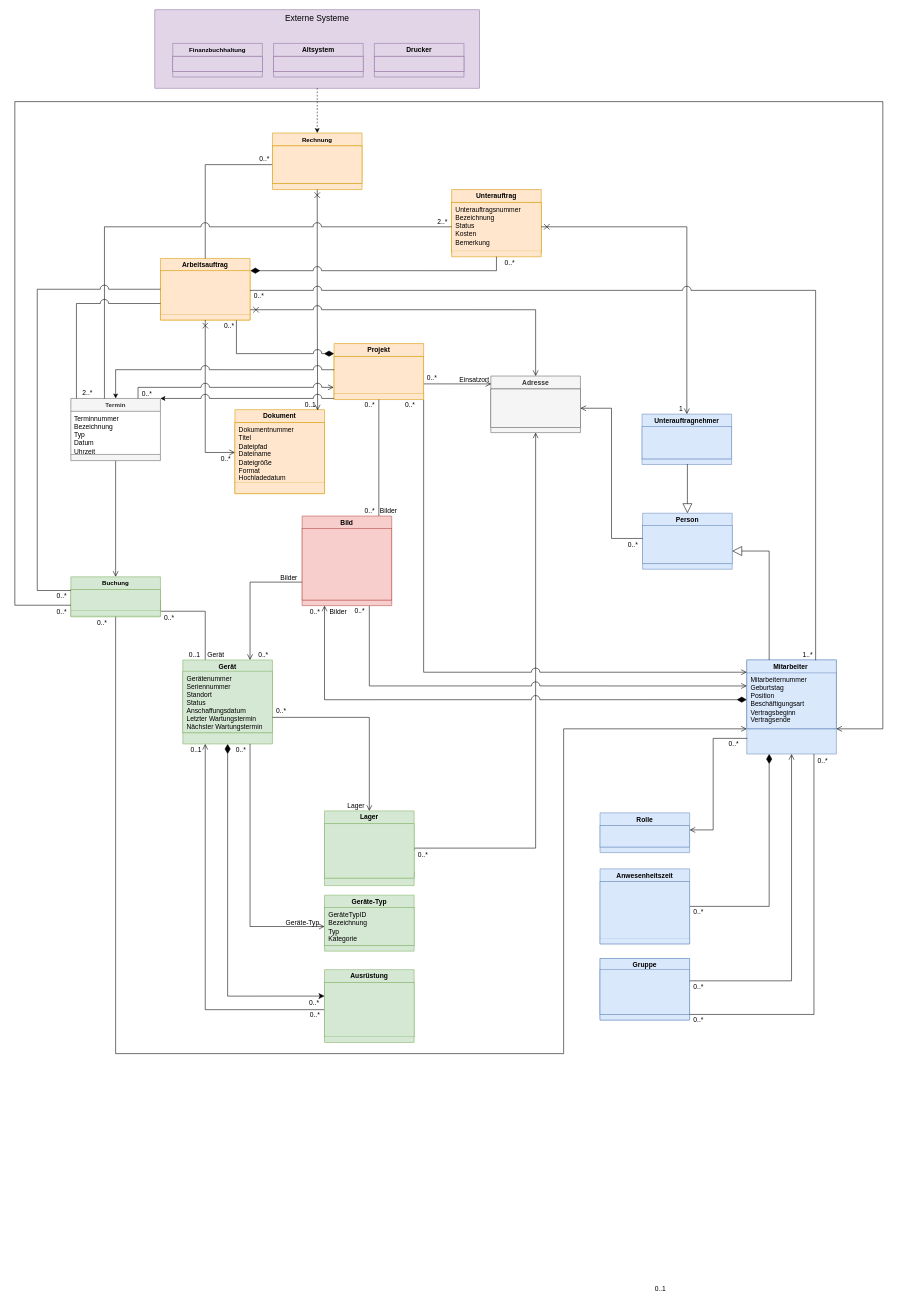
This 898x1304 diagram has some shape labels left out. Each missing label, with the centre of its shape:
Anwesenheits-ID Datum Startzeit Zeit-Endzeit Zeit-Typ Text-Bemerkung: (644,909)
Auftragsnummer Auftragsbezeichnung Status Bemerkung: (205,292)
Ausrüstungsnummer Bezeichnung Typ Kompatibel mit Gewicht Status: (369,1009)
Bild-ID Titel Dateipfad Dateiname Elementtyp Hochladedatum Dateigröße Format: (347,564)
Buchungsnummer Status: (115,599)
Gruppennummer Gruppenname Gruppetyp Beschreibung: (644,991)
Lagernummer Lagerbezeichnung Typ Grundstück Entwurf Kapazität: (369,850)
Projektnummer Projektname Beschreibung Status: (378,375)
Rechnungsnummer Betrag Fälligkeitsdatum Status: (317,164)
Rollennummer Name: (644,836)
Straße Hausnummer PLZ Ort Land: (535,408)
Unterauftragnehmer-ID Firmenname Fachbereich: (686,442)
Vorname Nachname Telefon Email: (687,544)
